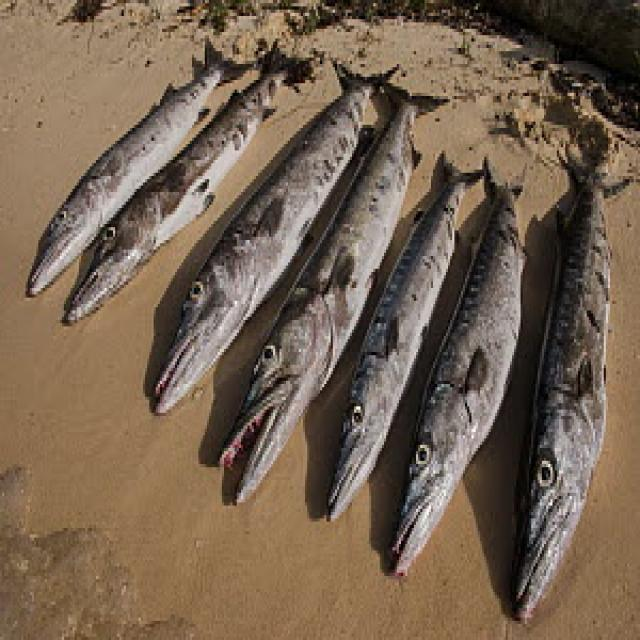Barracuda: (213, 74, 452, 508), (149, 54, 399, 420), (60, 36, 322, 327), (505, 137, 640, 627), (322, 147, 489, 525), (23, 32, 256, 301), (386, 154, 529, 579)
